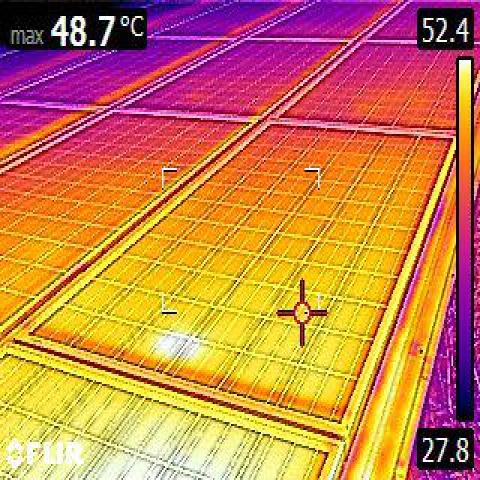fault: (157, 333, 176, 355)
